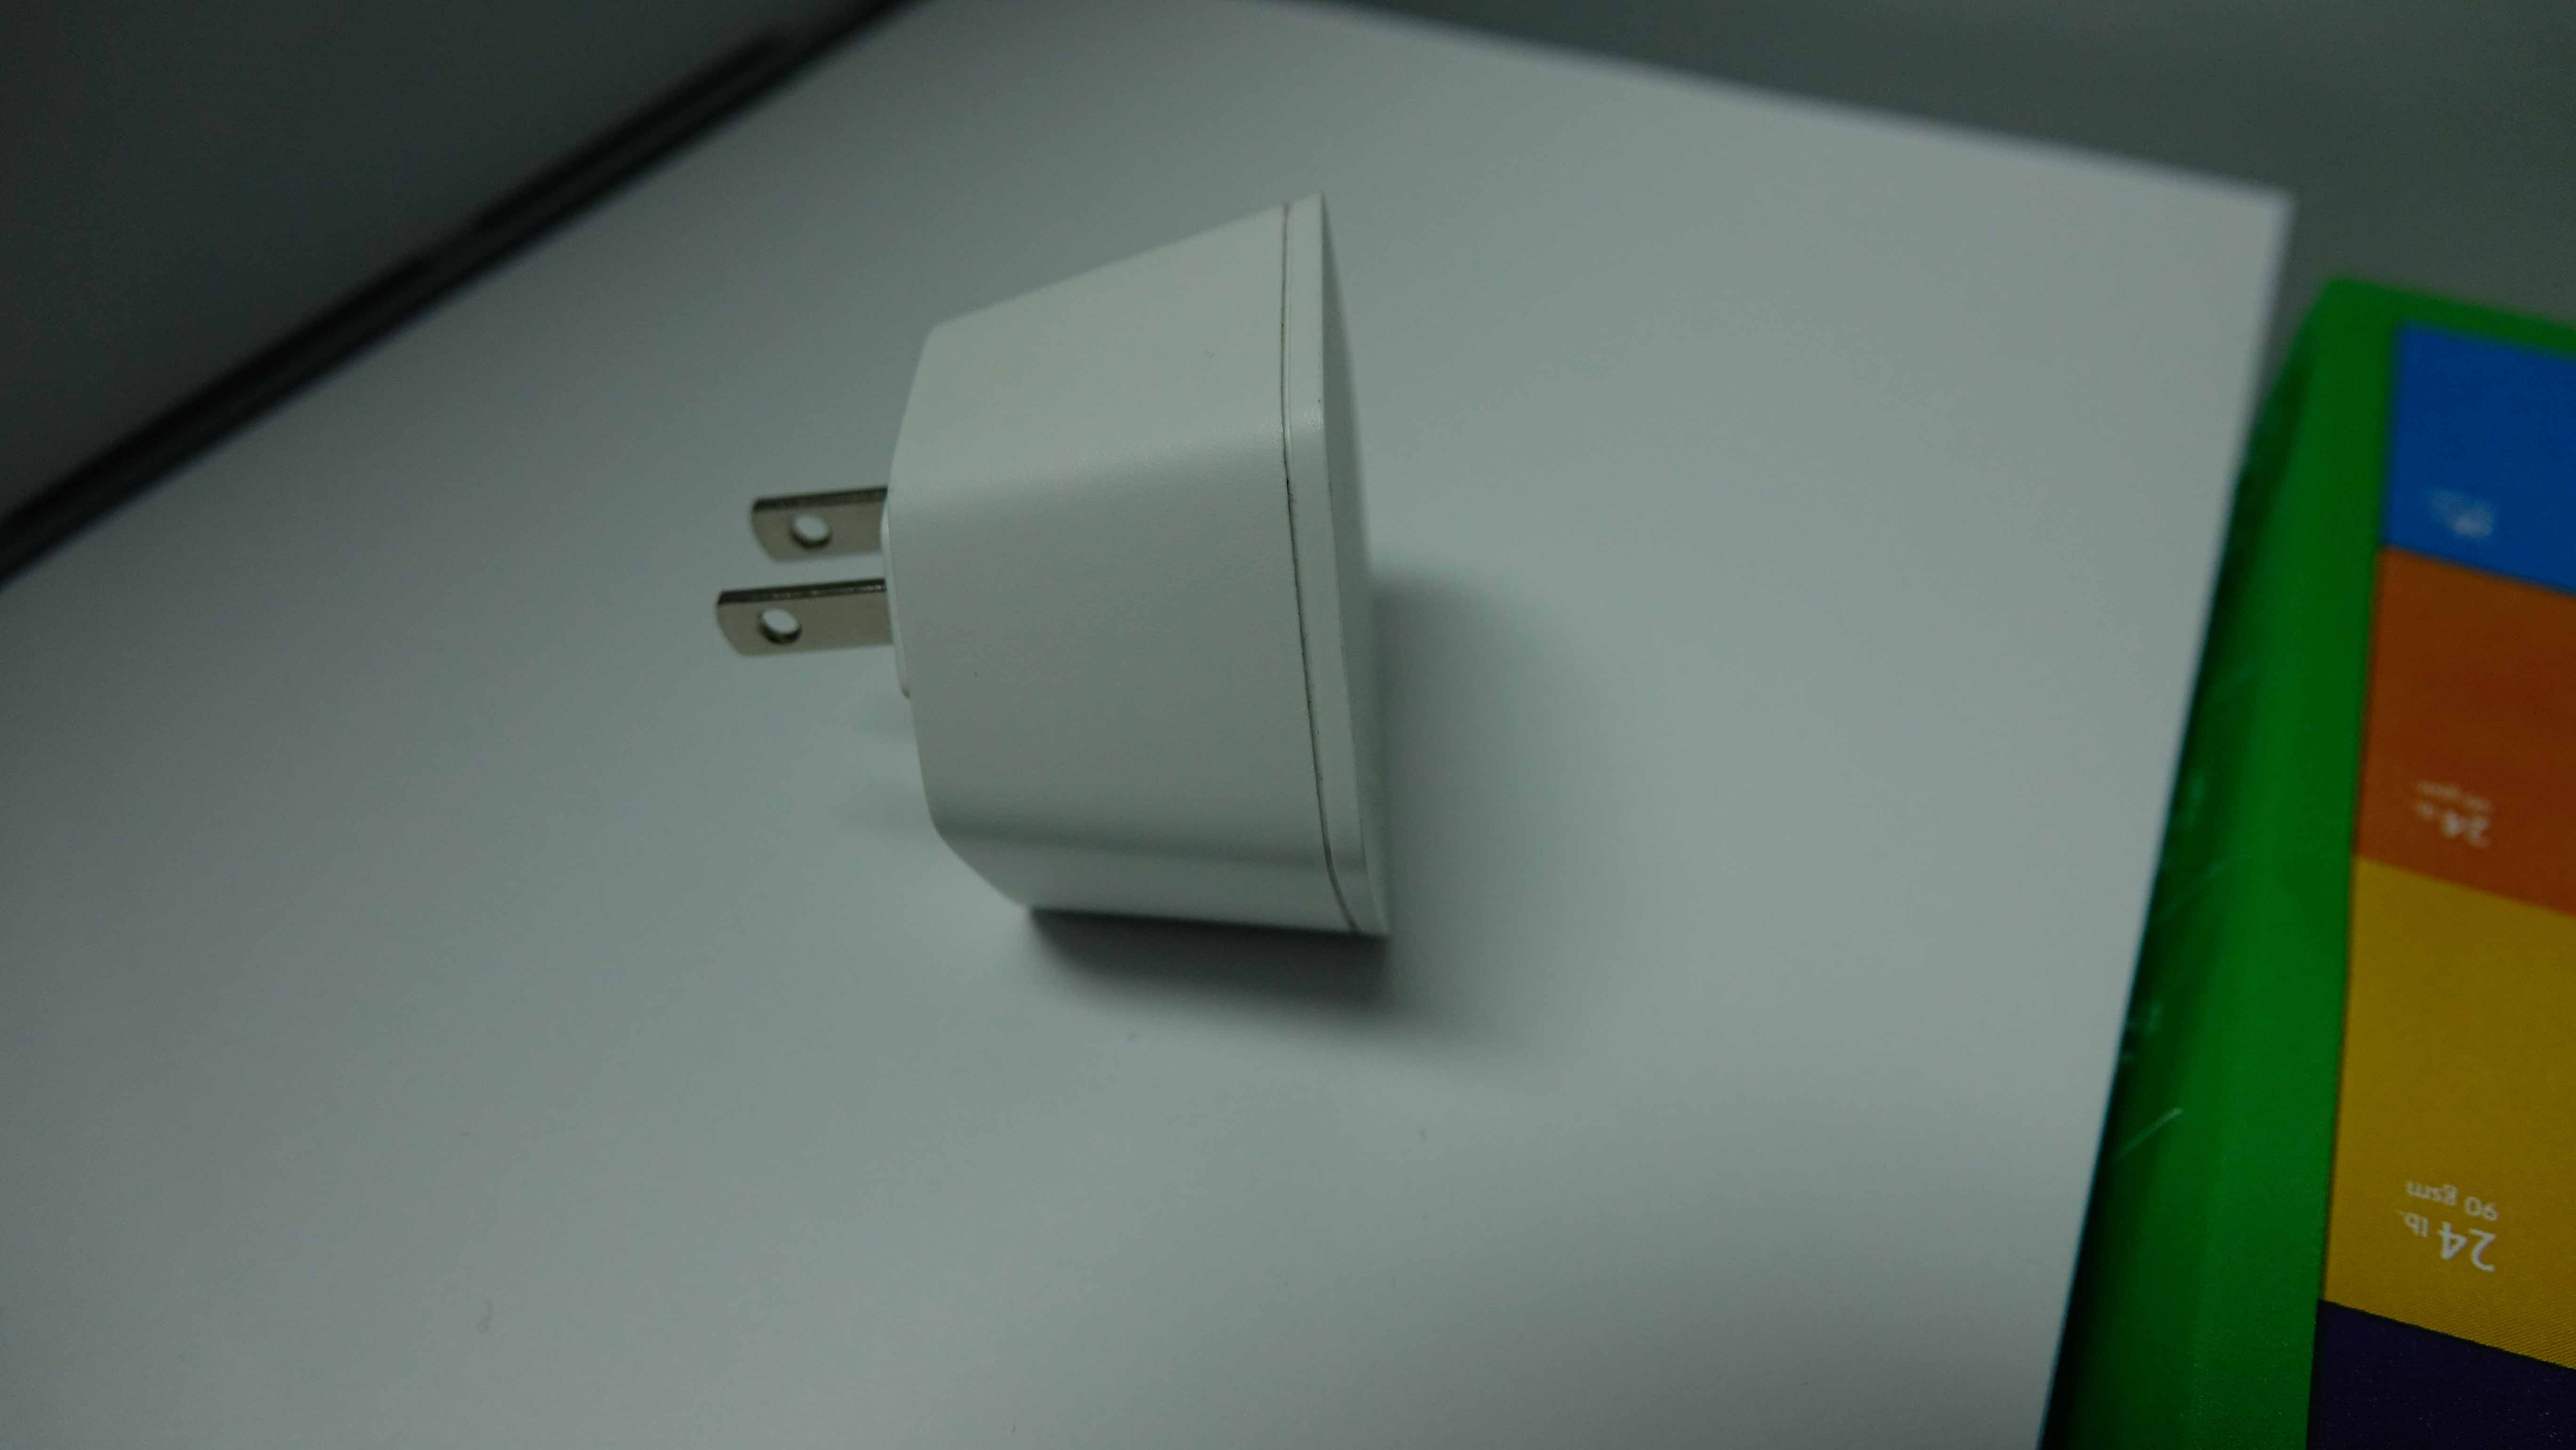pod: (697, 184, 1421, 973)
